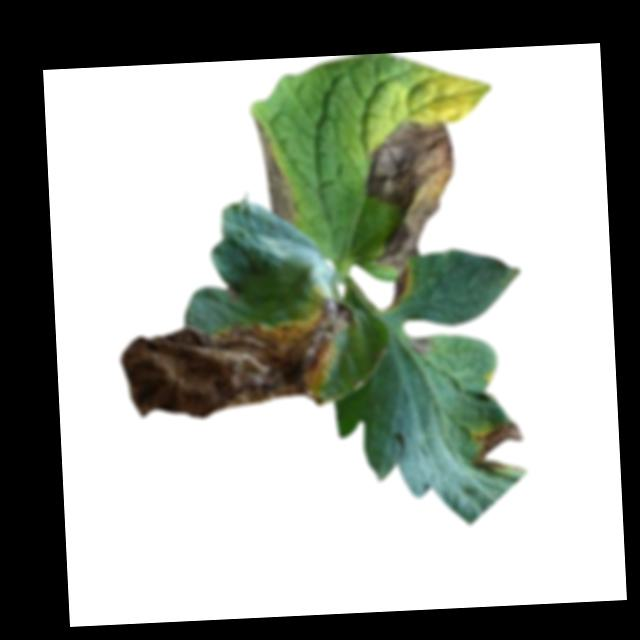Early_blight: (118, 295, 356, 421), (370, 120, 460, 268), (253, 118, 294, 228), (466, 421, 527, 475), (385, 268, 412, 311), (404, 335, 430, 354), (226, 282, 240, 300)
